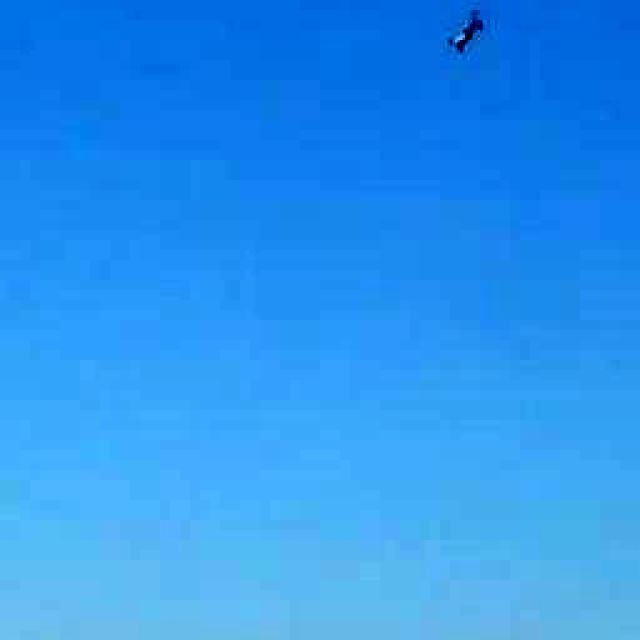bird: (432, 0, 510, 78)
